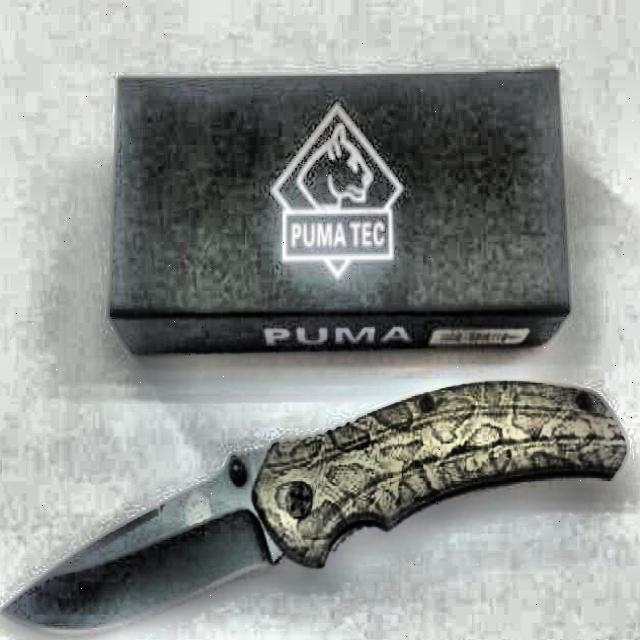knife: (2, 384, 629, 639)
